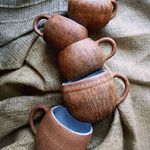cups: (57, 68, 131, 124), (26, 101, 95, 150), (57, 35, 119, 82)
